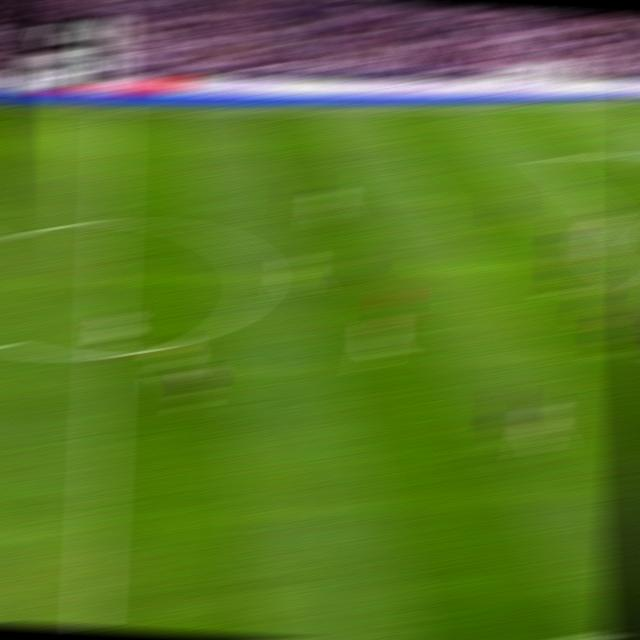bigarea_top_inner: (536, 150, 562, 166)
halfcircle_bottom: (90, 343, 121, 367)
halfcircle_top: (94, 206, 127, 236)
midline_top_intersection: (100, 106, 128, 120)
top_arc_area_intersection: (597, 208, 624, 222)
